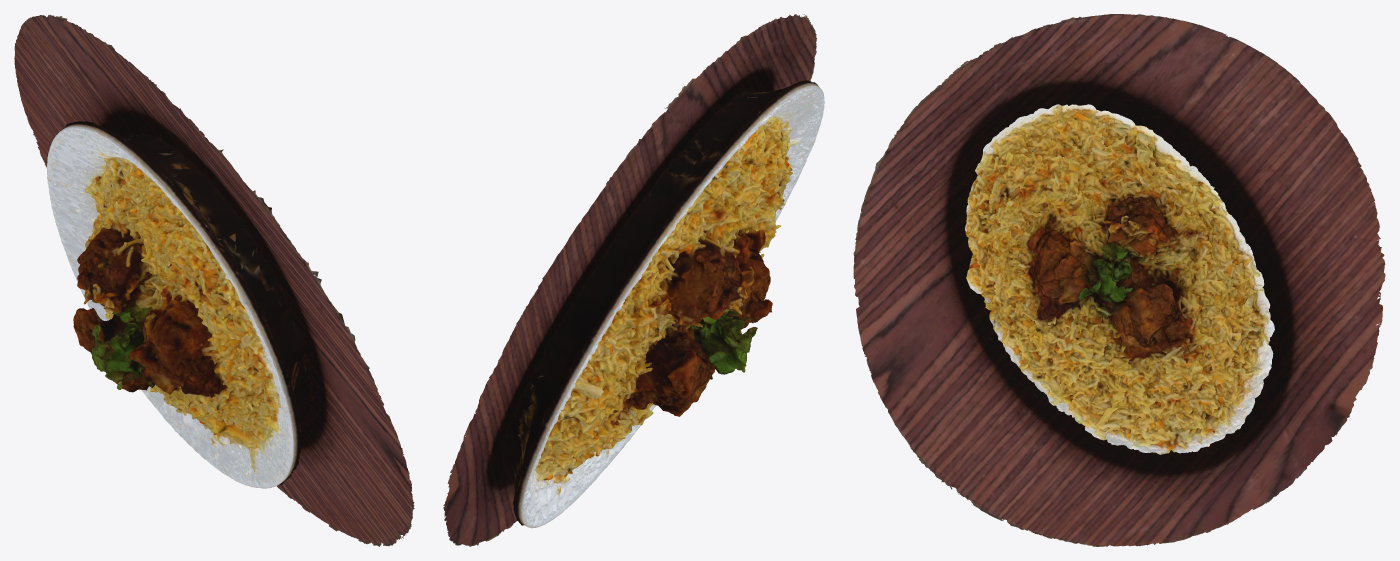
The model's file is biryani.glb.
The picture shows the model from 3 angles, left to right: view 1: azimuth 30°, elevation 25°; view 2: azimuth 150°, elevation 25°; view 3: azimuth 270°, elevation 25°; orthographic projection. The views are drawn at different scales.
Visible parts, largest first — view 1: meshNode_Material_u1_v1_0; view 2: meshNode_Material_u1_v1_0; view 3: meshNode_Material_u1_v1_0.
Boxes of the visible parts, <box> form: meshNode_Material_u1_v1_0: <box>14,14,414,546</box>; meshNode_Material_u1_v1_0: <box>443,14,824,546</box>; meshNode_Material_u1_v1_0: <box>853,14,1385,546</box>.
Bounding box in the file's own units: 15.32 × 32.78 × 35.51.
Materials: 1 (1 with a texture image).
